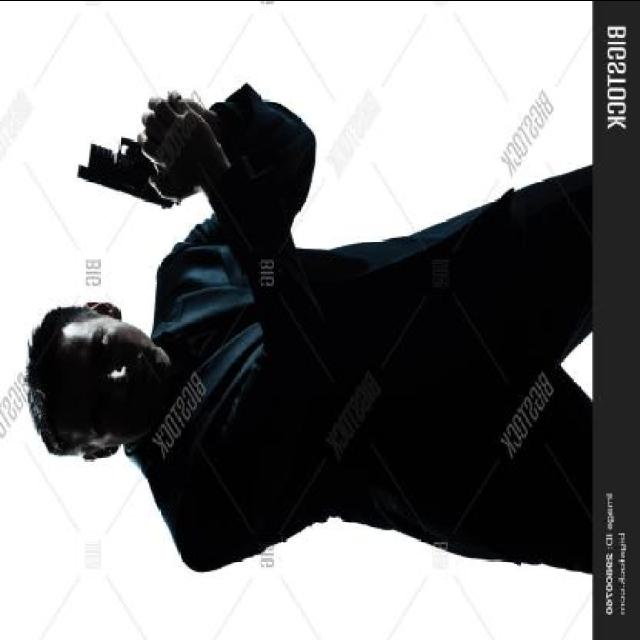pistol: (78, 92, 178, 220)
